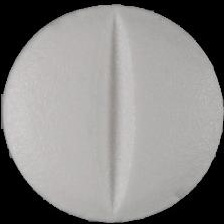60429-140: (0, 0, 224, 224)
